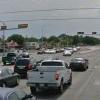Car: (65, 49, 89, 77)
